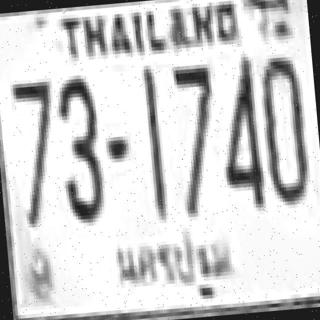N00: (258, 52, 309, 203)
N01: (140, 65, 167, 210)
N03: (53, 74, 105, 220)
N04: (213, 53, 263, 206)
N07: (171, 60, 221, 214), (10, 78, 61, 224), (171, 60, 220, 200), (171, 60, 216, 164)
P28: (110, 220, 244, 309)
